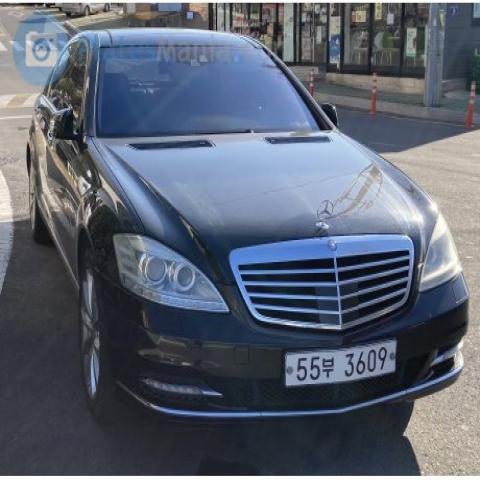LP: (278, 331, 402, 401)
